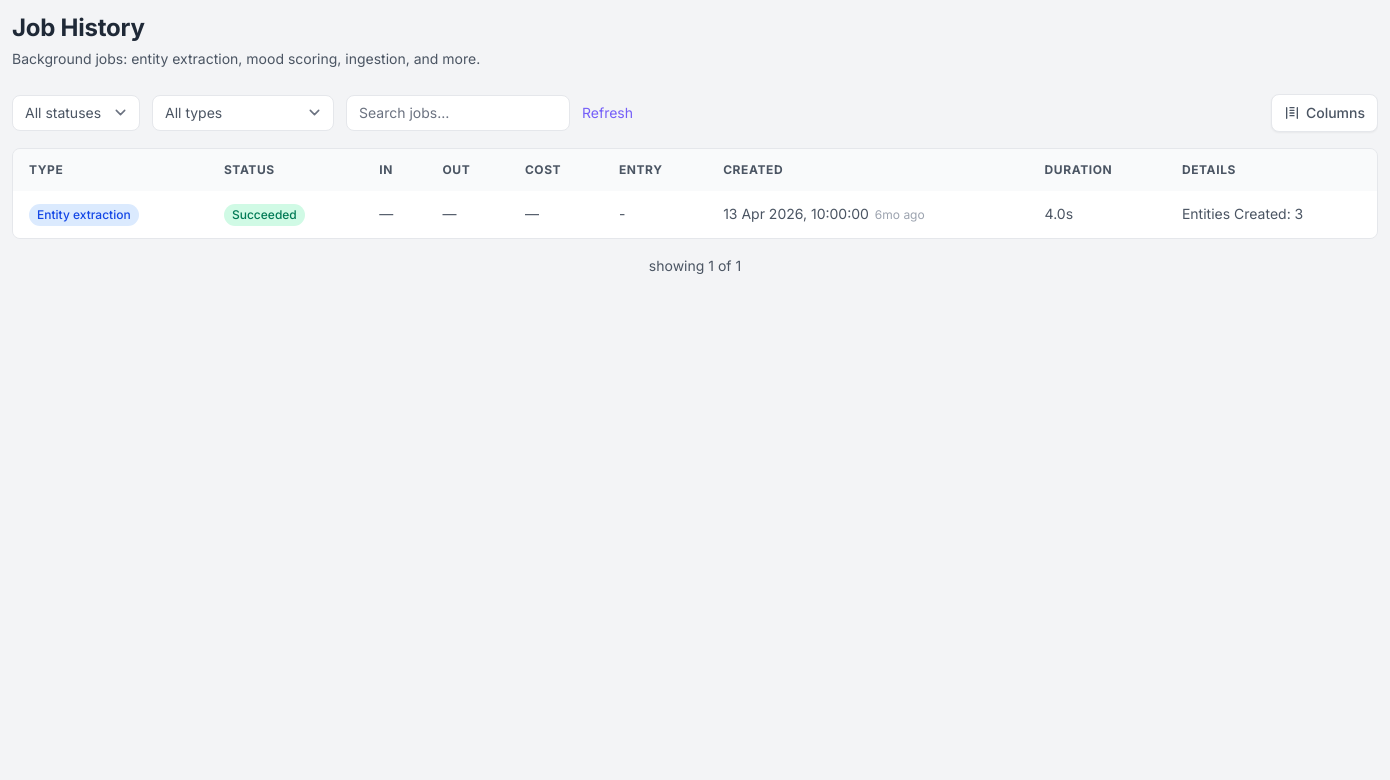
Test case: JobHistoryView › shows date range params as a chip
Click the button with test id "columns-button" at (1324, 113), box [1271,94,1378,132]
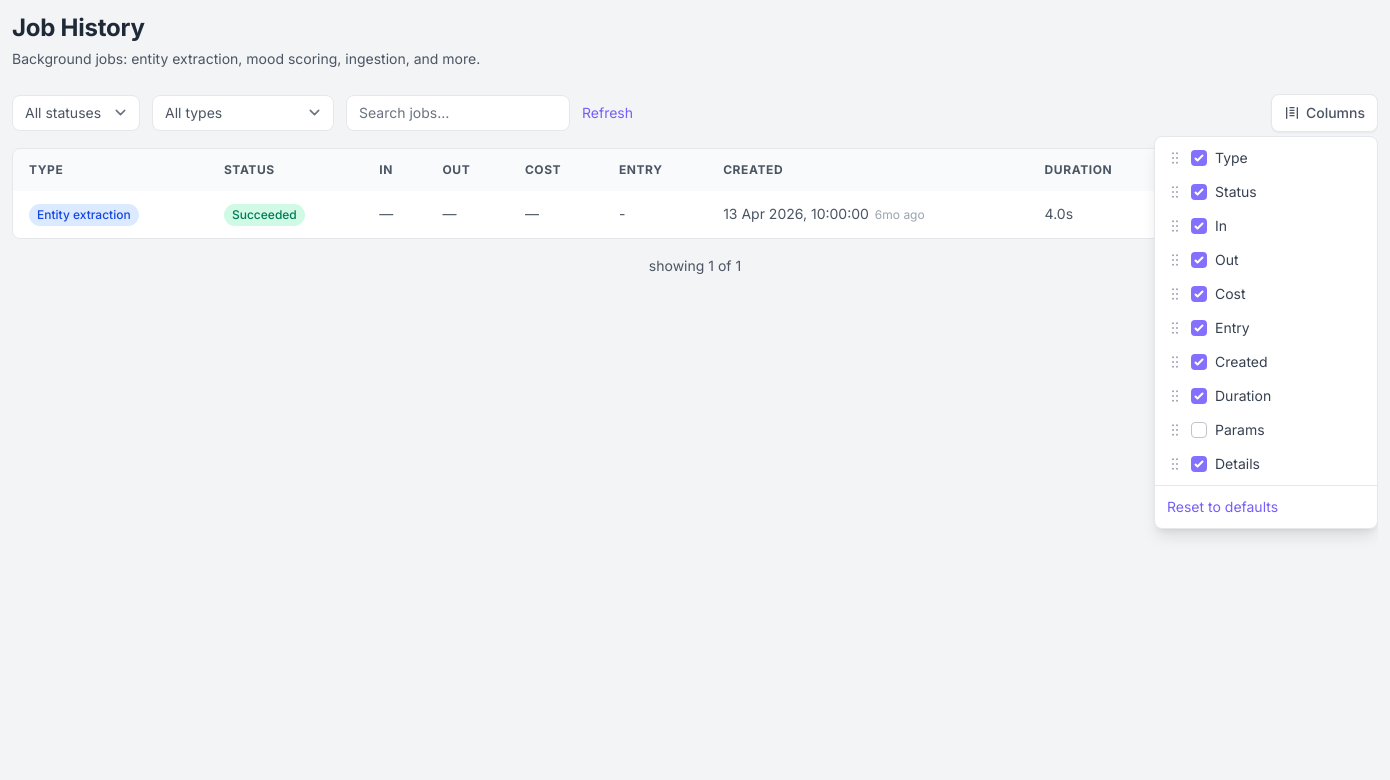
Click the checkbox with test id "col-toggle-params" at (1199, 430), box [1191,422,1207,438]
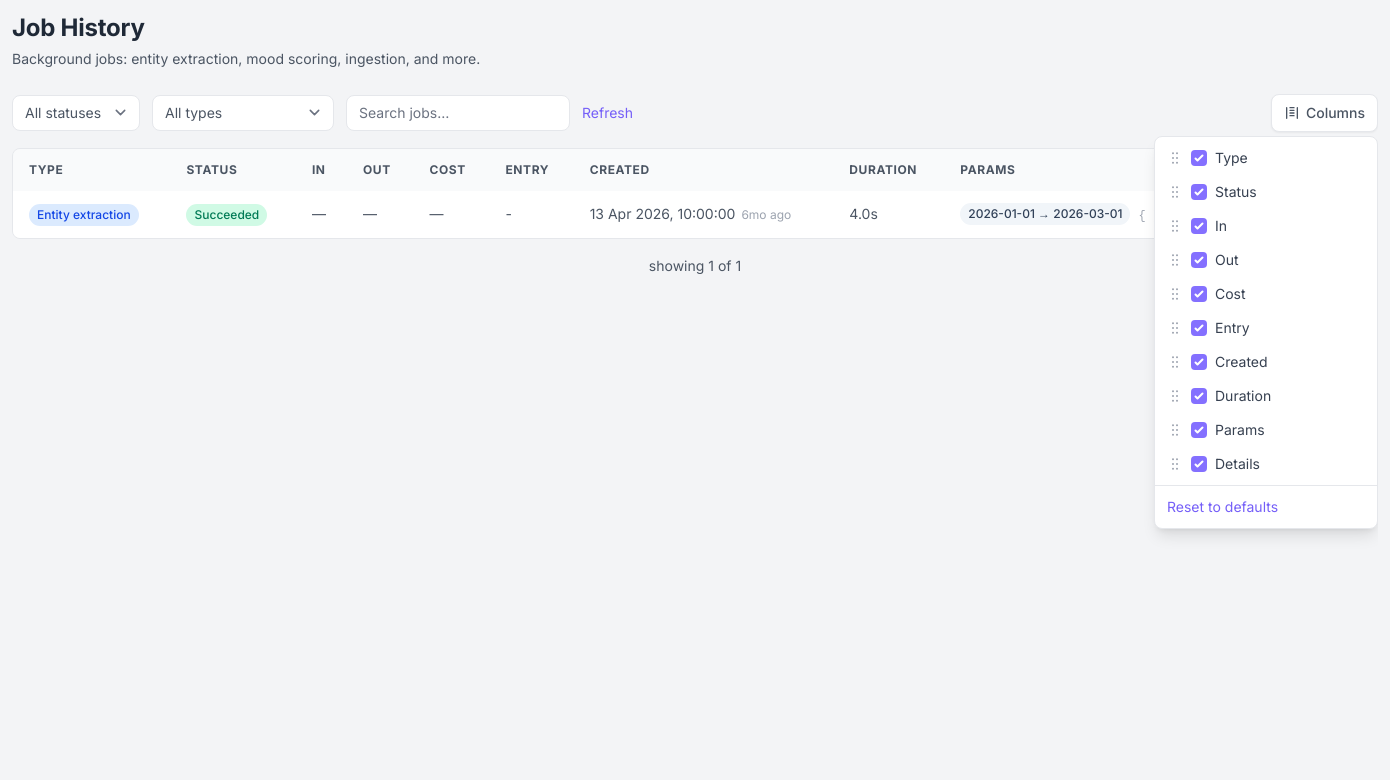
Check: the text "2026-01-01 → 2026-03-01" is shown, box [960,203,1130,225]
Check: the text with test id "param-chip-date_range" shows "2026-01-01", box [968,206,1122,221]
Check: the text with test id "param-chip-date_range" shows "2026-03-01", box [968,206,1122,221]
